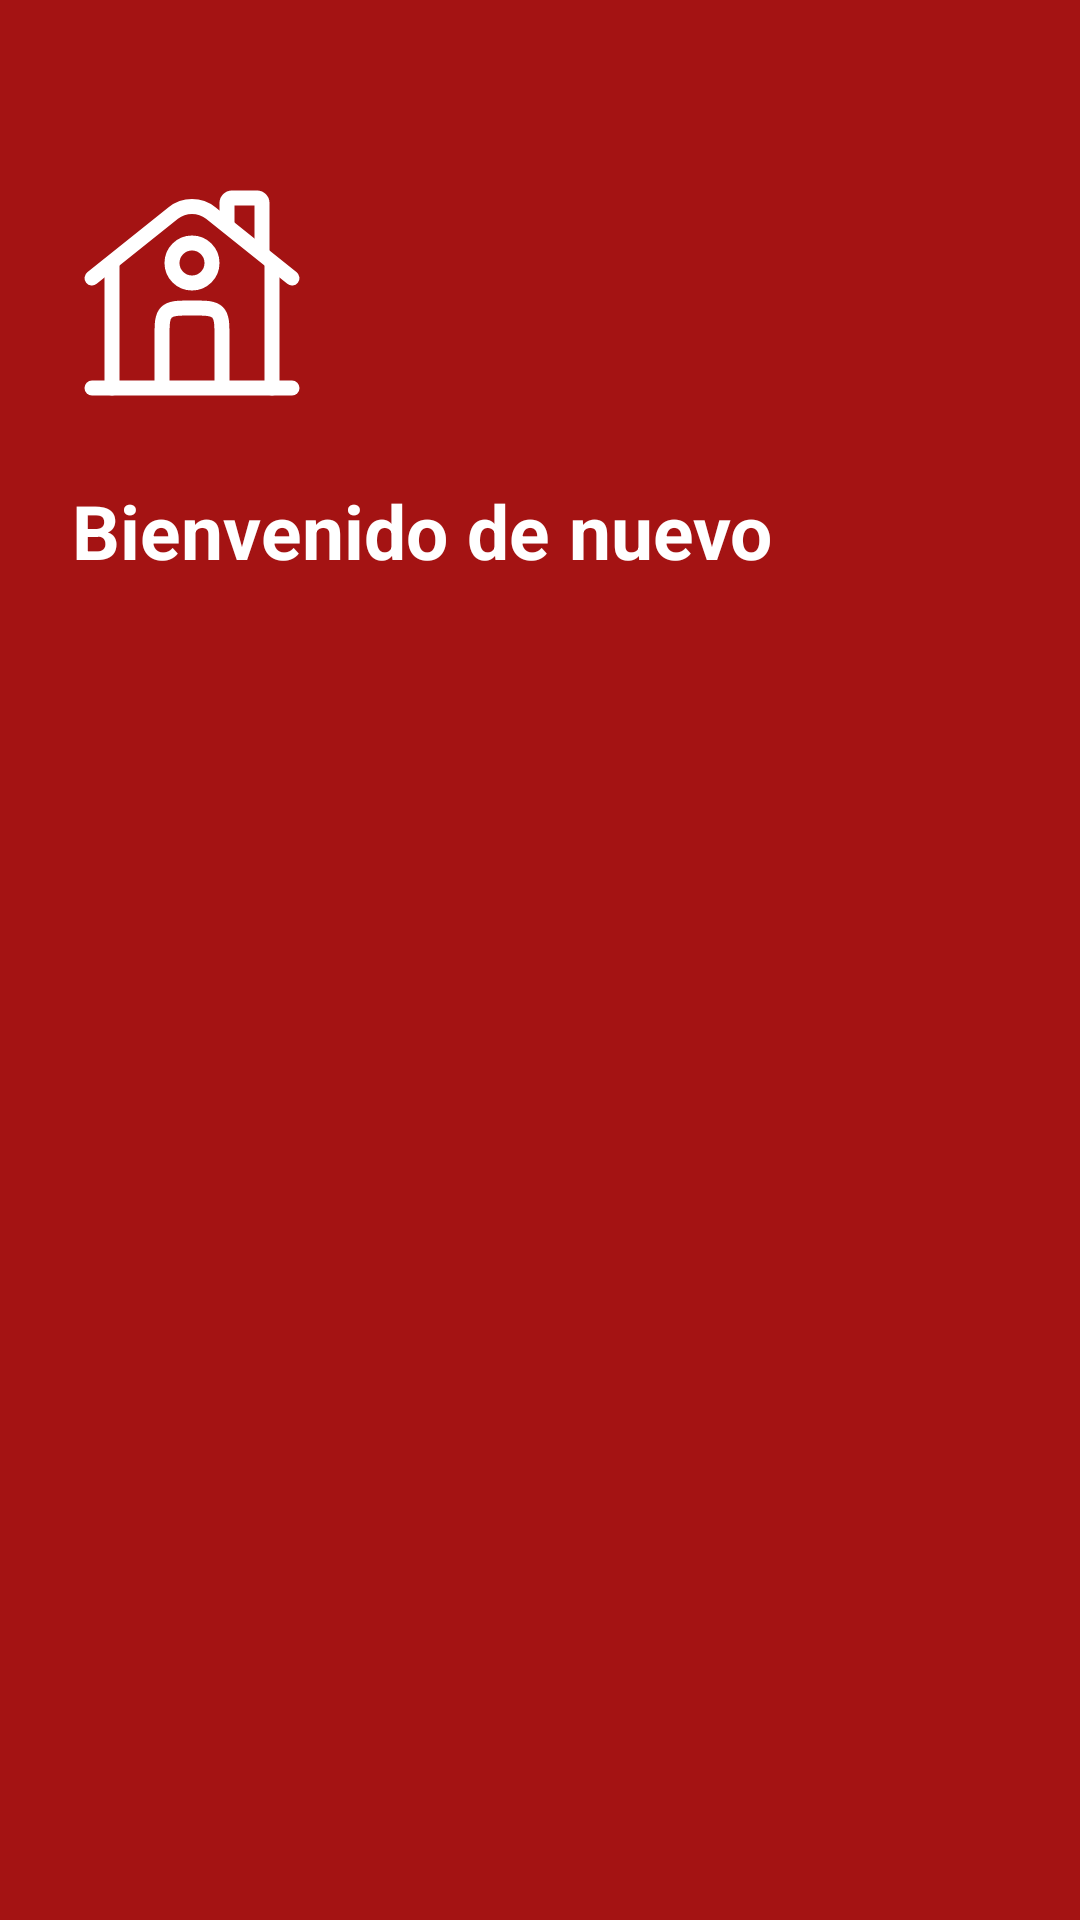

Named icons in this screenshot (1080*1920) and their bounding boxes, bbox(x1, y1, x2, y2):
casa: bbox(84, 190, 300, 396)
